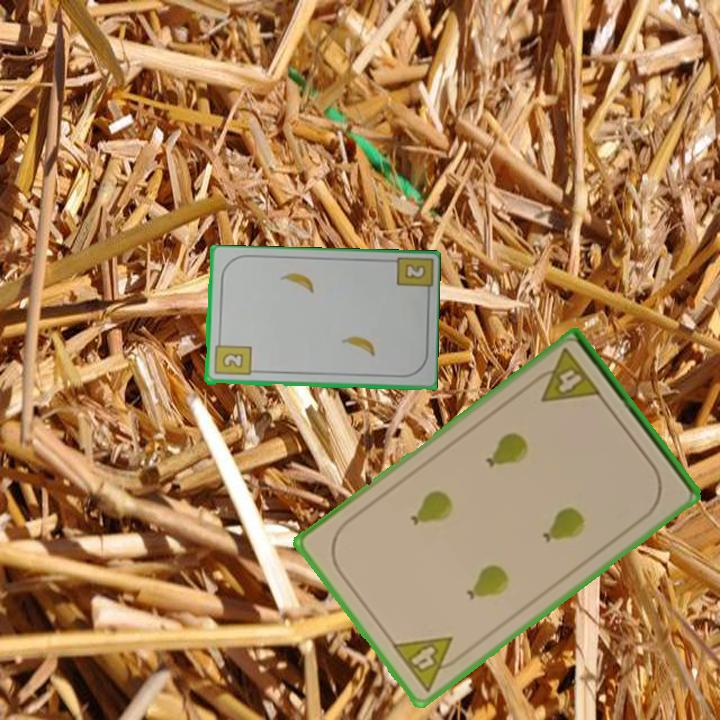2b: (211, 336, 253, 378), (401, 261, 429, 282)
4p: (388, 633, 468, 695), (527, 345, 605, 406)
